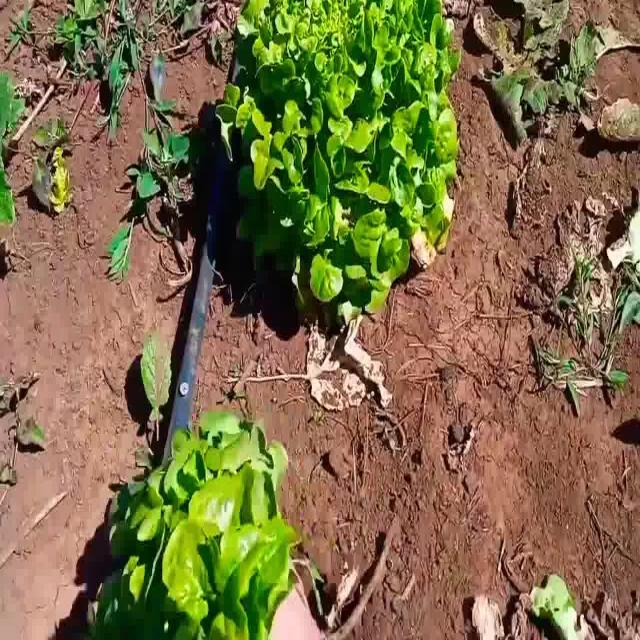Lettuce: (203, 0, 464, 316), (79, 401, 297, 640)
